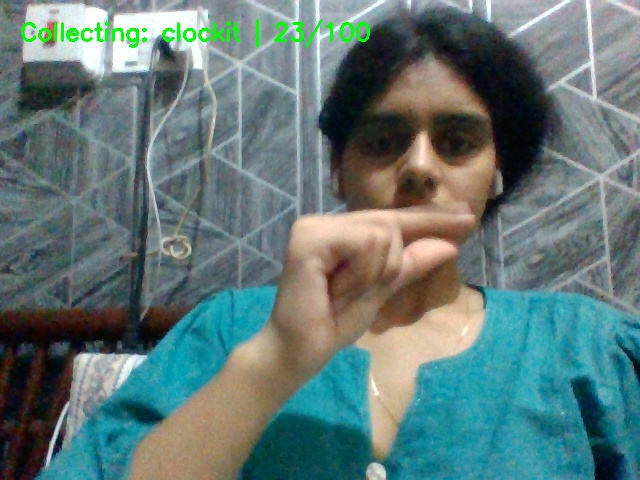clockit: (260, 192, 528, 409)
